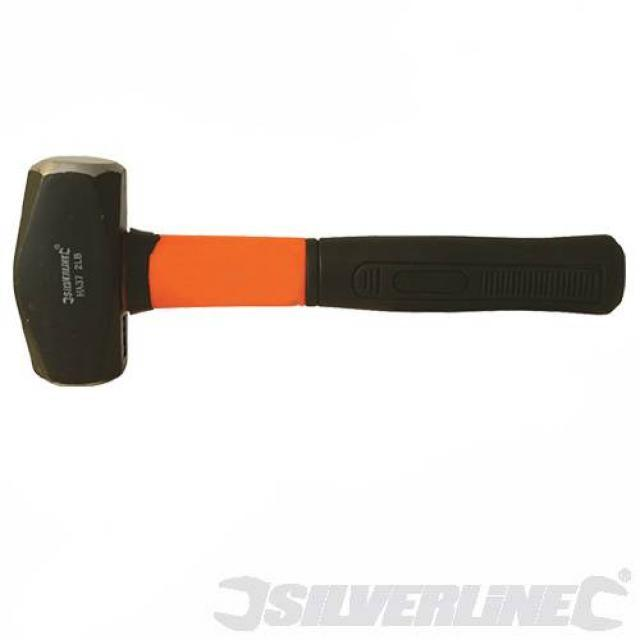hammer: (5, 137, 632, 409)
